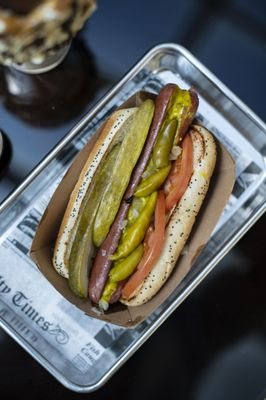sushi: (2, 43, 266, 374)
